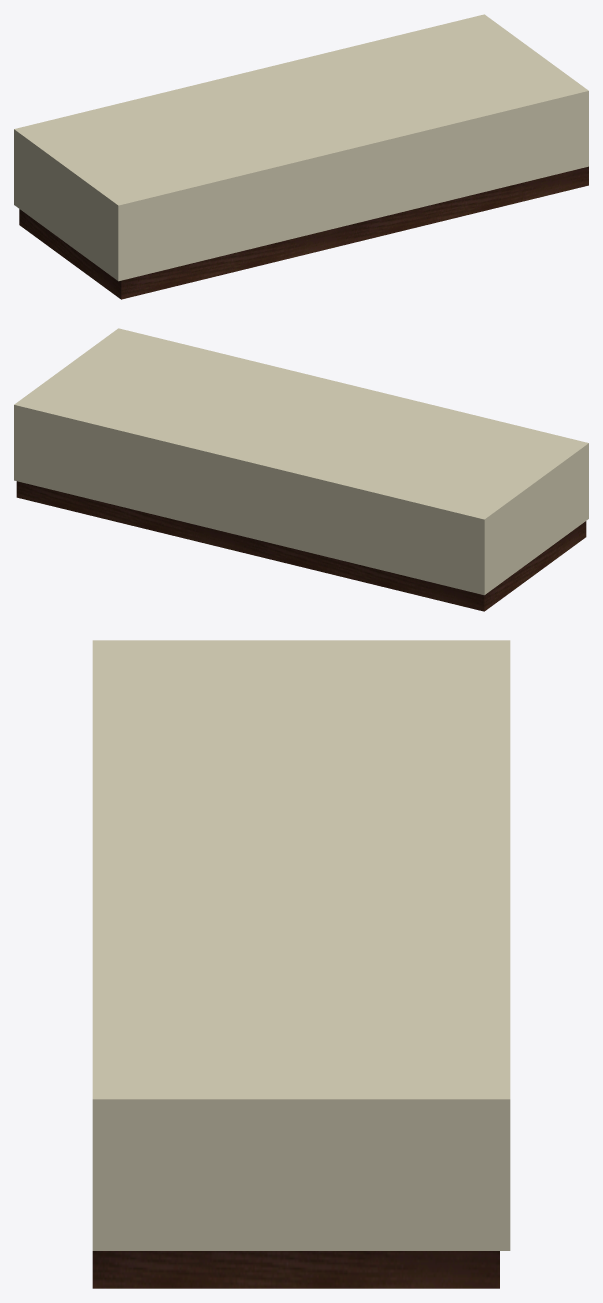
3 renders of one model, top to bottom at view 1: azimuth 30°, elevation 25°; view 2: azimuth 150°, elevation 25°; view 3: azimuth 270°, elevation 25°, orthographic. The views are drawn at different scales.
Visible parts, largest first — view 1: Joint_0_Object_0, Joint_0_Object_1; view 2: Joint_0_Object_0, Joint_0_Object_1; view 3: Joint_0_Object_0, Joint_0_Object_1.
Boxes of the visible parts, bbox=[...] form: Joint_0_Object_0: bbox=[14, 14, 588, 281]; Joint_0_Object_1: bbox=[19, 166, 588, 299]; Joint_0_Object_0: bbox=[14, 328, 588, 595]; Joint_0_Object_1: bbox=[16, 481, 586, 611]; Joint_0_Object_0: bbox=[92, 640, 510, 1250]; Joint_0_Object_1: bbox=[92, 1251, 499, 1288].
Size of the model in its own units: 2600 by 500 by 1000.
Materials: 2 (1 with a texture image).
